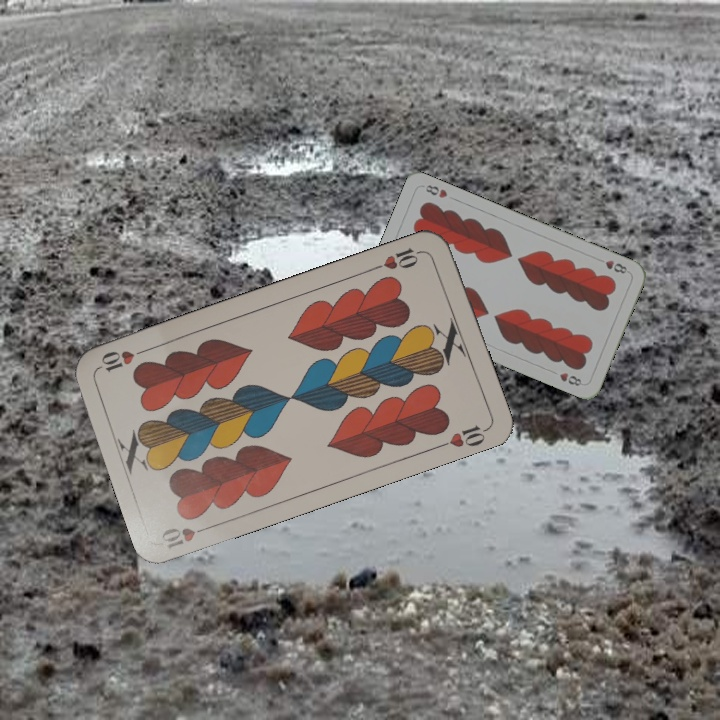H10: (157, 521, 216, 551), (369, 243, 426, 273)
H8: (593, 254, 630, 276)
